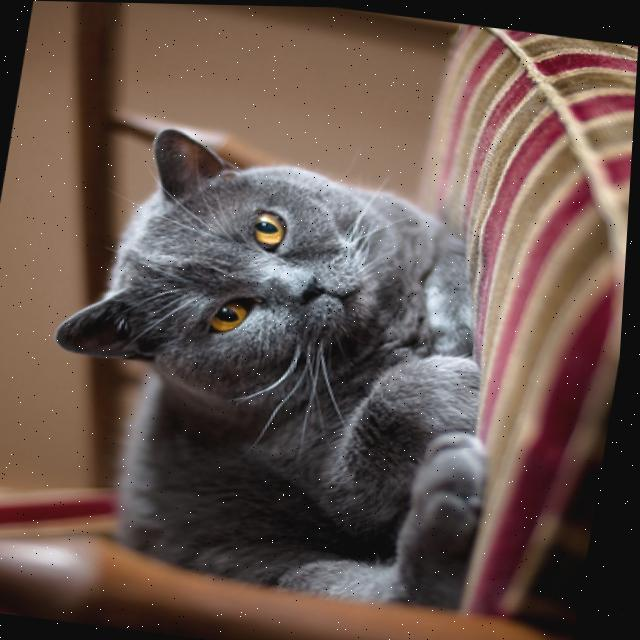British Shorthair: (14, 114, 543, 640)
